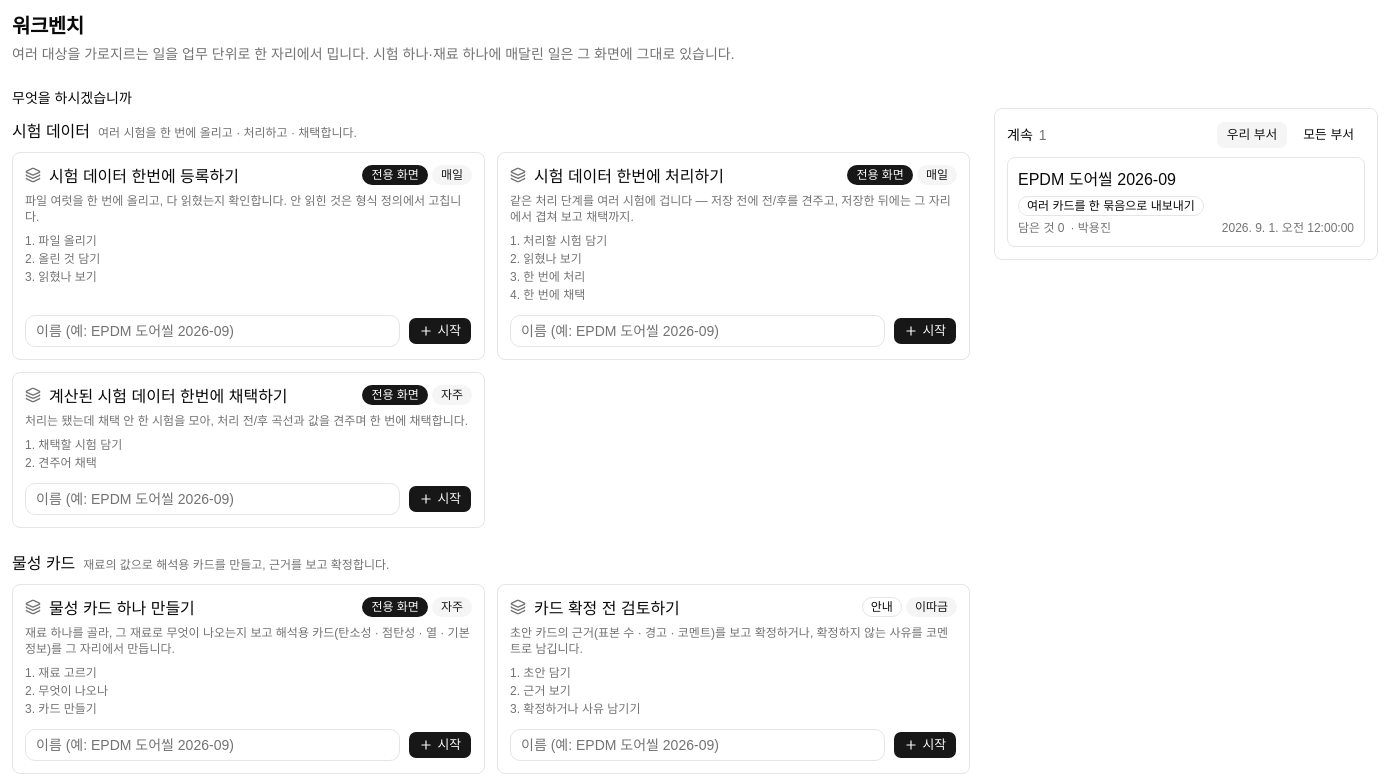
Test: 옛 이름으로 적힌 작업 (ADR 0058) › 옛 업무 이름이면 지금 업무로 열고 그렇다고 말한다
Click the text "EPDM 도어씰 2026-09". click: (1097, 180)
box: [1018, 171, 1176, 188]
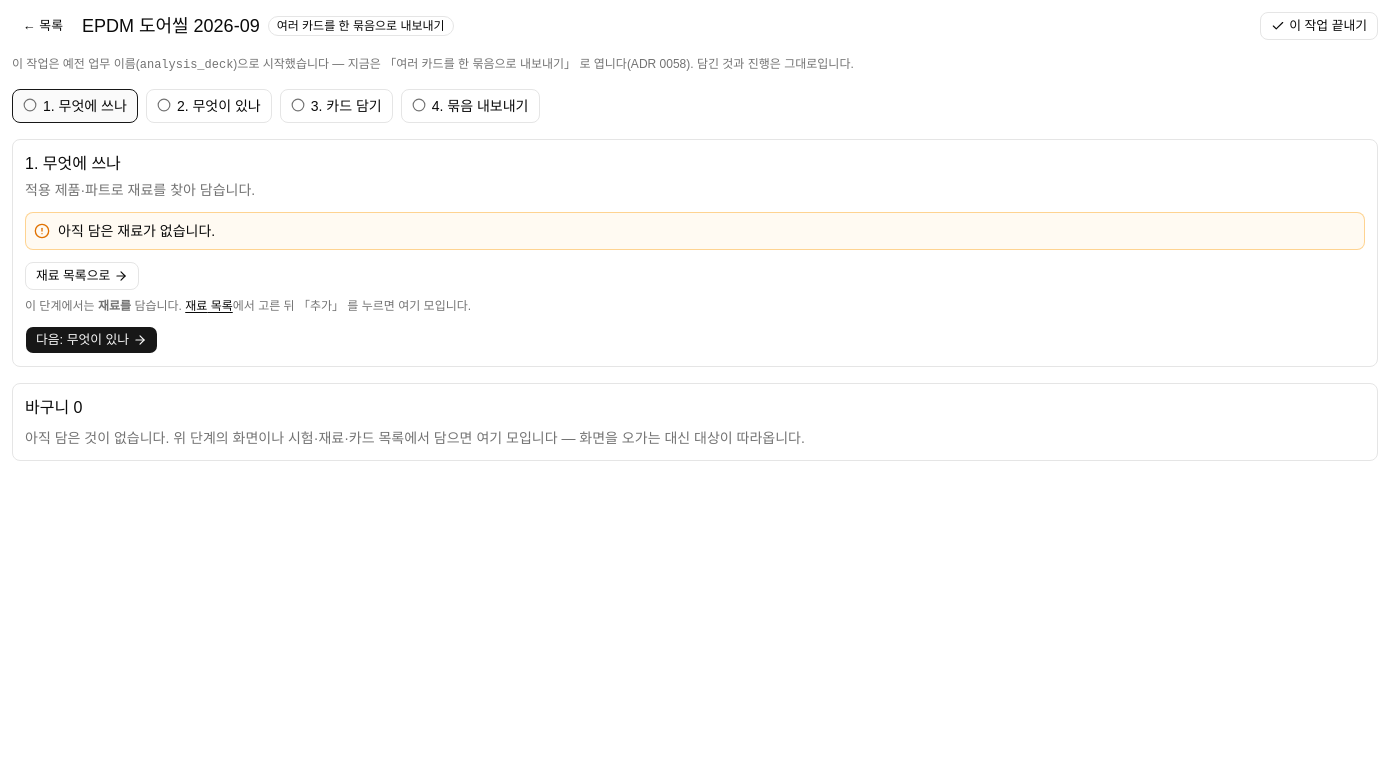
Expected: the list named "단계" is shown, [12, 89, 540, 123]
Expected: the text "예전 업무 이름" is shown, [12, 57, 140, 71]
